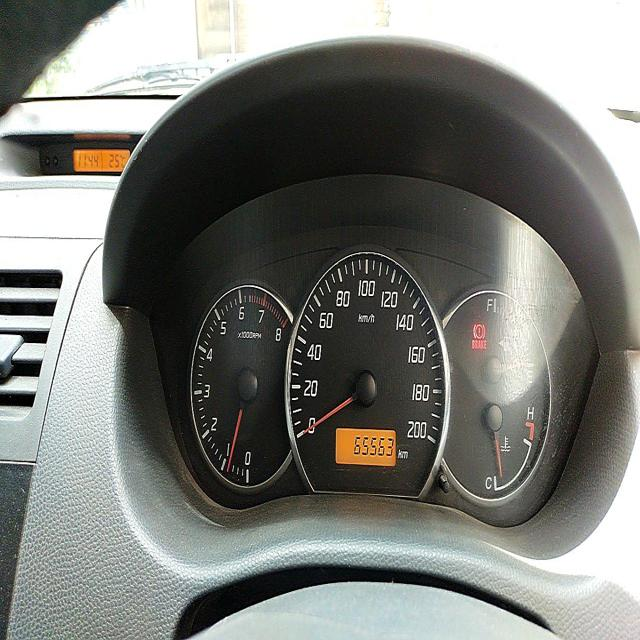odometer: (352, 433, 394, 460)
